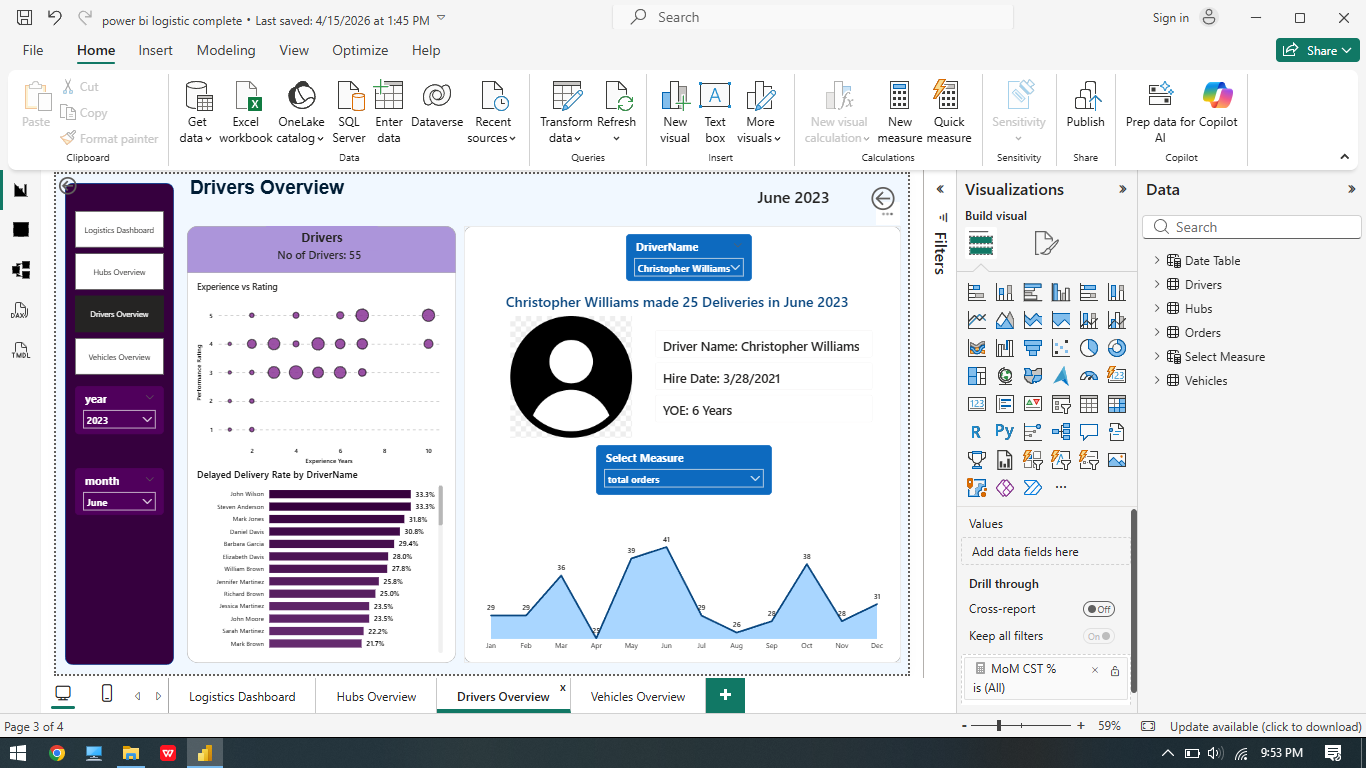

What the dashboard file says about the page in this screenshot:
{"tool":"powerbi","page":{"name":"Drivers Overview","canvas":[1450,850],"ordinal":2},"visuals":[{"type":"shape","box":[15.3,15.3,185.3,819.4],"z":0},{"type":"textbox","box":[222.7,0,324.7,59.5],"z":1000},{"type":"slicer","fields":{"Values":["Date Table.year"]},"box":[32.3,360.4,151.3,81.6],"z":2000},{"type":"slicer","fields":{"Values":["Date Table.month"]},"box":[32.3,499.8,151.3,79.9],"z":3000},{"type":"actionButton","box":[0,0,100,40],"z":4000},{"type":"shape","box":[222.7,88.4,457.3,742.9],"z":5000},{"type":"shape","box":[693.6,88.4,742.9,742.9],"z":6000},{"type":"shape","box":[222.7,88.4,457.3,79.9],"z":7000},{"type":"textbox","box":[357,88.4,190.4,40.8],"z":8000},{"type":"cardVisual","fields":{"Data":["Drivers.No of Drivers"]},"box":[357,108.8,181.9,54.4],"z":9000},{"type":"scatterChart","title":" Experience vs Rating","fields":{"Y":["Drivers.Performance Rating"],"X":["Drivers.Experience Years"],"Size":["Sum(Drivers.Experience Years)1"]},"box":[234.6,181.9,428.4,317.9],"z":10000},{"type":"barChart","title":"Delayed Delivery Rate by DriverName","fields":{"Category":["Drivers.DriverName"],"Y":["Orders.Delyed Delivery Rte"]},"box":[234.6,499.8,428.4,319.6],"z":11000},{"type":"cardVisual","fields":{"Data":["Orders.Year Month Title"]},"box":[1113.5,0,280.5,73.1],"z":12000},{"type":"slicer","fields":{"Values":["Drivers.DriverName"]},"box":[969,102,214.2,79.9],"z":13000},{"type":"cardVisual","fields":{"Data":["Orders.Drivers Title"]},"box":[736.7,181.7,640,66.7],"z":14000},{"type":"cardVisual","fields":{"Data":["Drivers.Driver Name","Drivers.Hire Date Title","Drivers.YOE"]},"box":[1001.3,248.2,404.6,193.8],"z":15000},{"type":"areaChart","fields":{"Y":["Orders.total orders"],"Category":["Date Table.Month abr"]},"box":[710.6,581.4,714,238],"z":16000},{"type":"slicer","fields":{"Values":["Select Measure.Select Measure"]},"box":[918,460.7,299.2,85],"z":17000},{"type":"pageNavigator","box":[32.3,62.9,151.3,278.8],"z":18000},{"type":"image","box":[763.3,241.4,224.4,207.4],"z":19000},{"type":"actionButton","box":[1380.4,10.2,51,62.9],"z":20000}]}

Visuals, with their boxes on the page's 1450x850 design canvas (x1, y1, x2, y2). These are canvas units, not pixel positions in the 1366x768 screenshot, which may show the page scaled, cropped or inside an application window:
shape: bbox=[15, 15, 201, 835]
textbox: bbox=[223, 0, 547, 60]
slicer - Date Table.year: bbox=[32, 360, 184, 442]
slicer - Date Table.month: bbox=[32, 500, 184, 580]
actionButton: bbox=[0, 0, 100, 40]
shape: bbox=[223, 88, 680, 831]
shape: bbox=[694, 88, 1436, 831]
shape: bbox=[223, 88, 680, 168]
textbox: bbox=[357, 88, 547, 129]
cardVisual - Drivers.No of Drivers: bbox=[357, 109, 539, 163]
" Experience vs Rating" scatterChart: bbox=[235, 182, 663, 500]
"Delayed Delivery Rate by DriverName" barChart: bbox=[235, 500, 663, 819]
cardVisual - Orders.Year Month Title: bbox=[1114, 0, 1394, 73]
slicer - Drivers.DriverName: bbox=[969, 102, 1183, 182]
cardVisual - Orders.Drivers Title: bbox=[737, 182, 1377, 248]
cardVisual - Drivers.Driver Name x Drivers.Hire Date Title: bbox=[1001, 248, 1406, 442]
areaChart - Orders.total orders x Date Table.Month abr: bbox=[711, 581, 1425, 819]
slicer - Select Measure.Select Measure: bbox=[918, 461, 1217, 546]
pageNavigator: bbox=[32, 63, 184, 342]
image: bbox=[763, 241, 988, 449]
actionButton: bbox=[1380, 10, 1431, 73]
